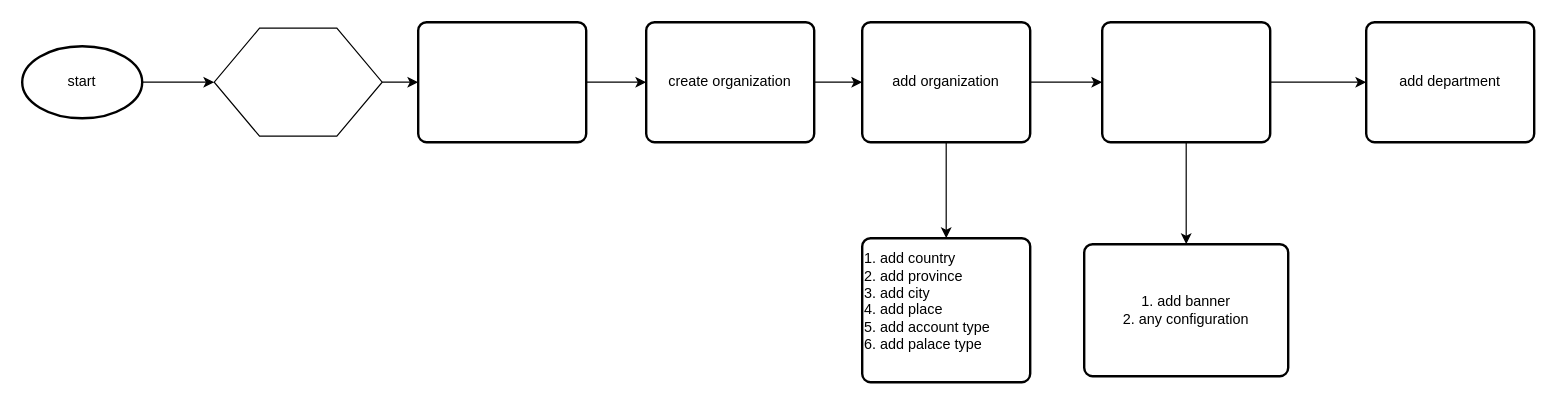
Image size: 1555x403. Some labels were removed from this diagram. Here are the shapes that lost their labels. From the top down, the centre of each, then its label:
At pixel 297 81: "insert default data".
At pixel 501 81: "customer register".
At pixel 1185 81: "add palace".
